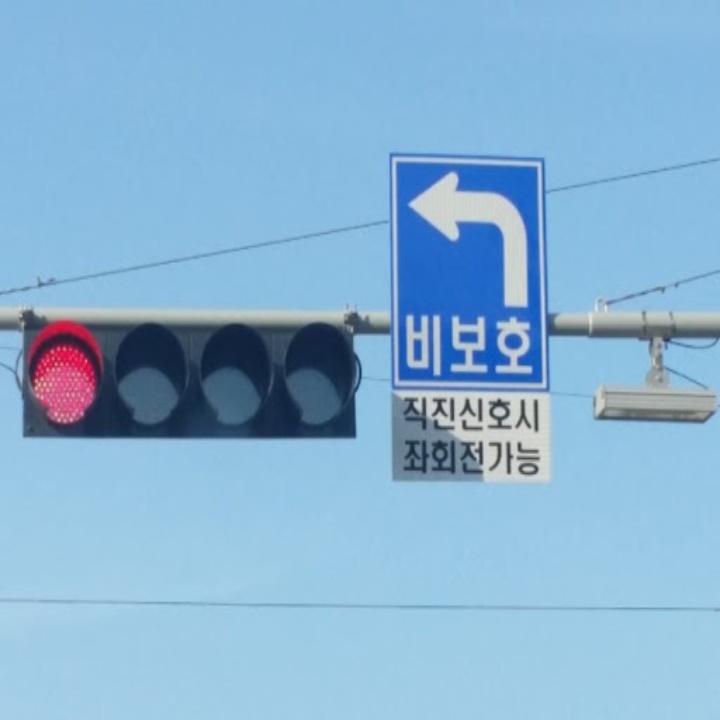left: (400, 165, 536, 315)
